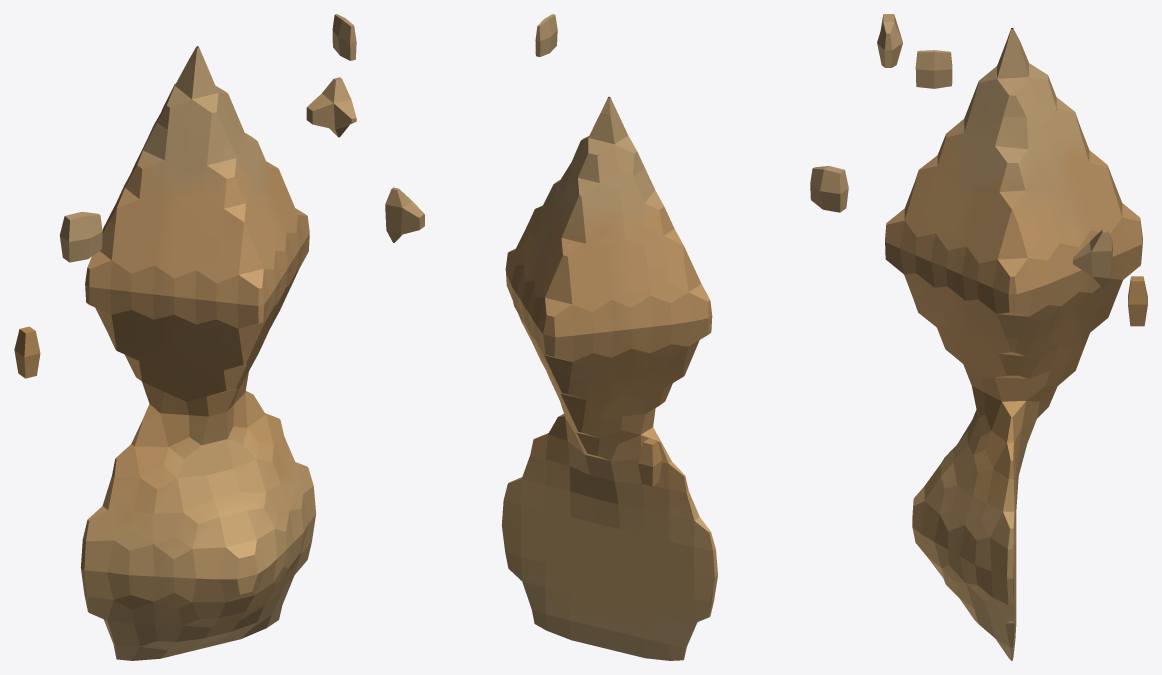
Rendered from fireSpiritSummon.glb.
The picture shows the model from 3 angles, left to right: view 1: azimuth 30°, elevation 25°; view 2: azimuth 150°, elevation 25°; view 3: azimuth 270°, elevation 25°; orthographic projection. The views are drawn at different scales.
Parts seen in each view (by area): view 1: geometry_0; view 2: geometry_0; view 3: geometry_0.
Part boxes in pixels (x1,y1,x2,y2): geometry_0: [14, 14, 356, 660]; geometry_0: [385, 14, 848, 660]; geometry_0: [877, 14, 1147, 660].
Size of the model in its own units: 0.6023 by 0.9325 by 0.3635.
1 material, 1 textured.
